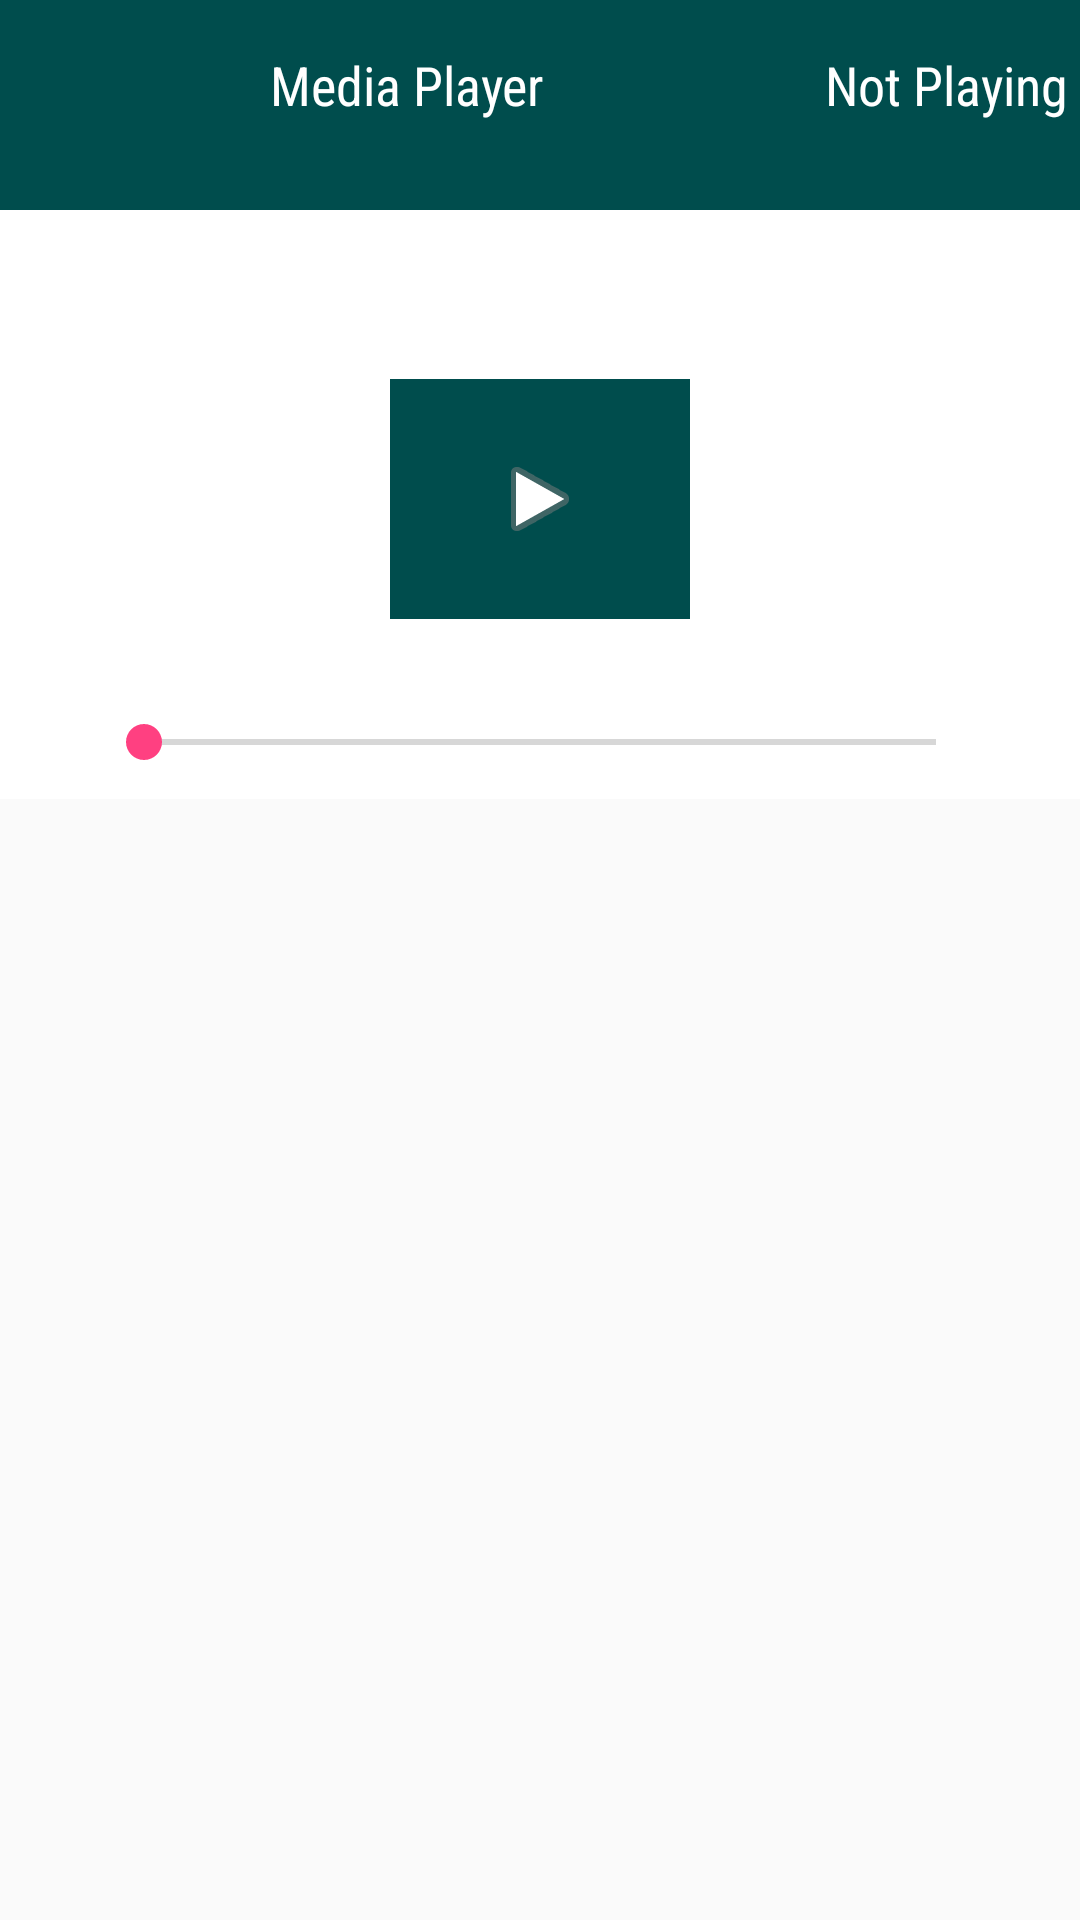

Icons on this 1080 × 1920 Android screen, each with its box as (x1=x1, y1=y1, x2=x2, y2=y2):
play: (x1=390, y1=379, x2=690, y2=619)
